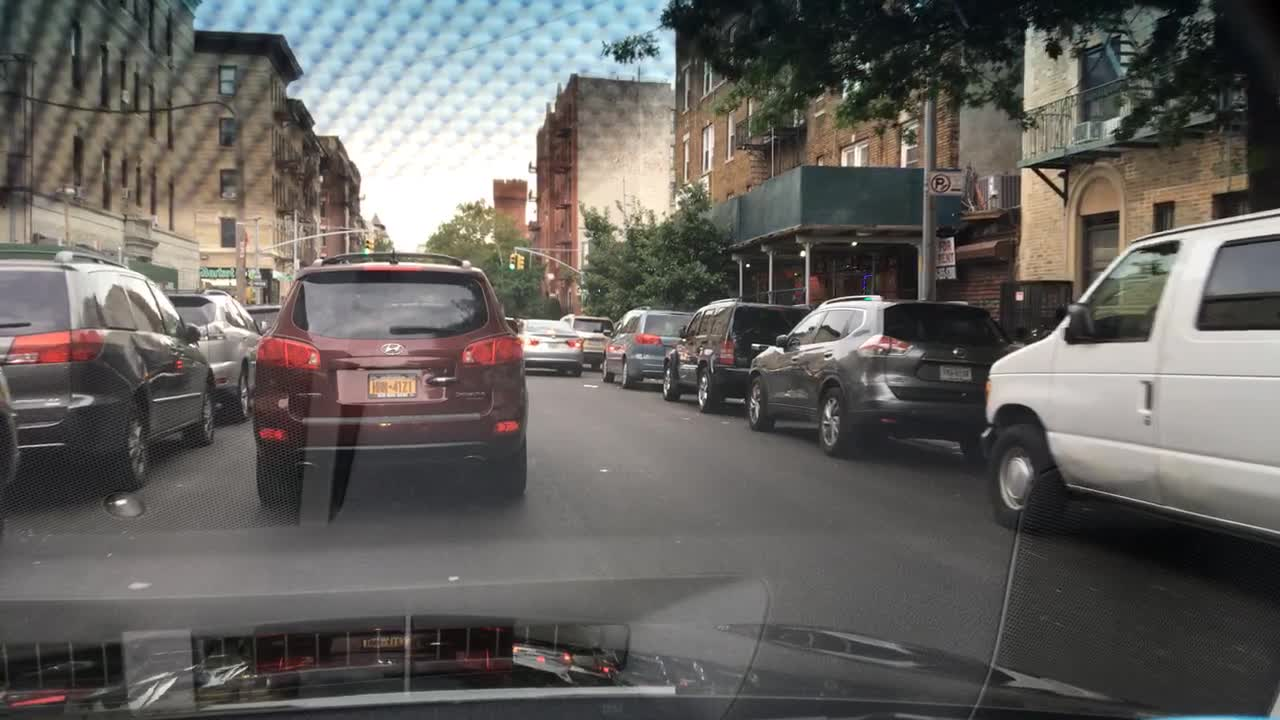car: (980, 208, 1278, 549), (249, 249, 530, 508), (2, 242, 220, 493), (741, 290, 1015, 463), (661, 293, 813, 414), (160, 283, 272, 424), (599, 305, 697, 389), (509, 314, 586, 378), (558, 314, 617, 371), (242, 299, 282, 331)
traffic light: (362, 231, 375, 258), (507, 251, 516, 273), (516, 254, 525, 271)
traffic sign: (921, 165, 967, 196), (933, 236, 956, 280)
